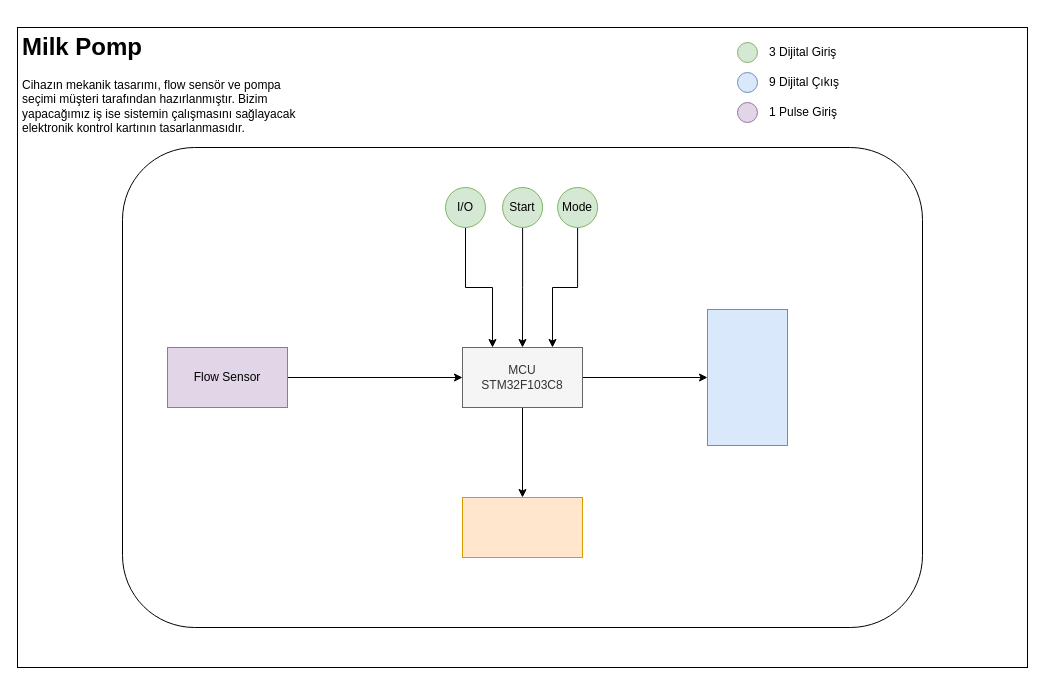
The diagram is 1045 pixels wide and 685 high, and some of its shapes have lost their labels. The centre of each missing label's shape, as x and y in pixels:
7-Segment Display: point 747,377
Relay: point 522,527
